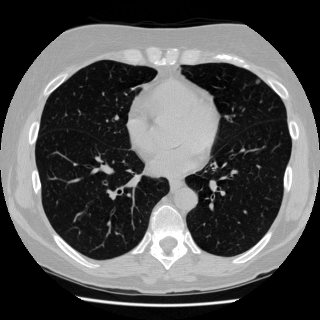nodule: (255, 79, 259, 83)
